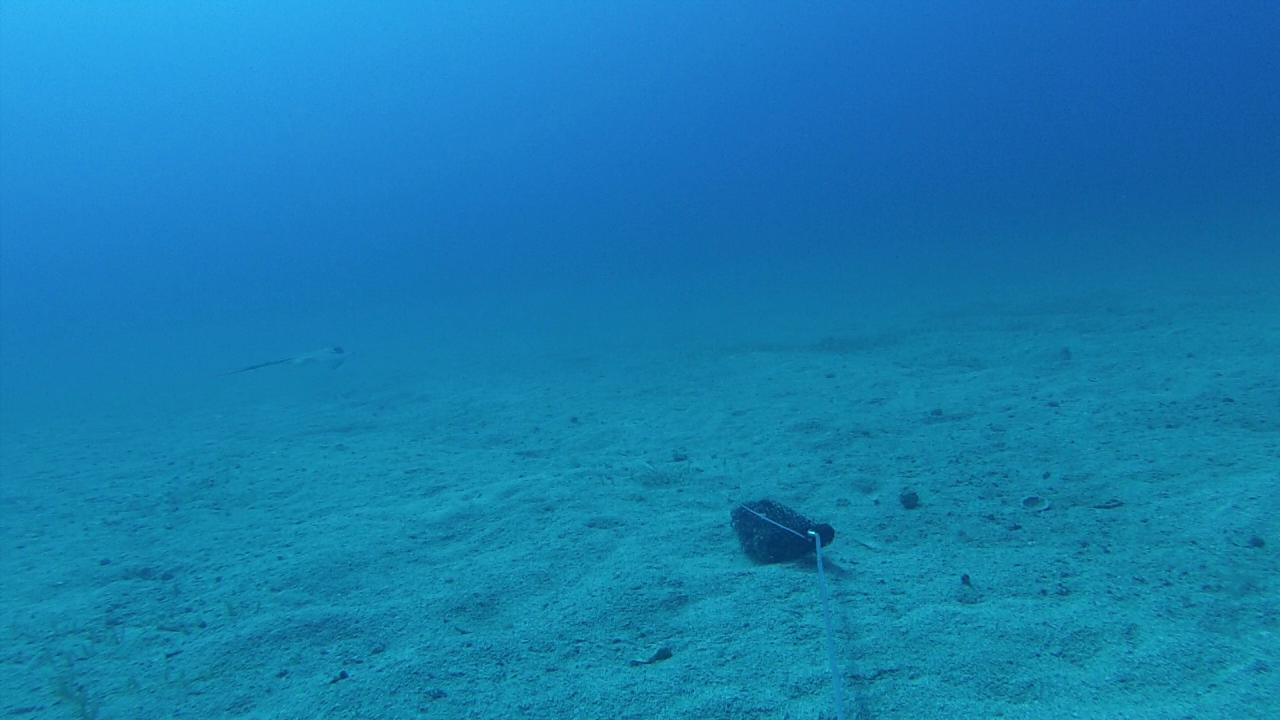dasyatis: (222, 340, 355, 374)
